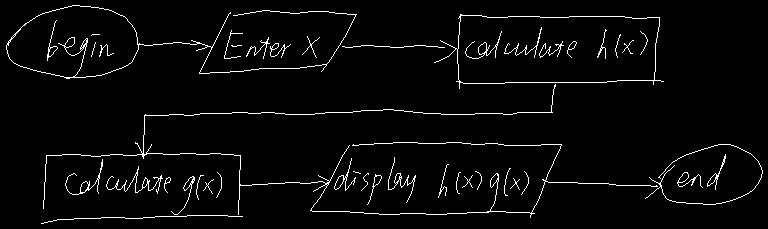arrow: (135, 84, 555, 158), (342, 40, 456, 62), (542, 177, 660, 198), (239, 175, 329, 191), (138, 40, 212, 50)
data: (310, 142, 561, 217), (199, 10, 356, 73)
process: (456, 14, 663, 88), (41, 153, 242, 223)
terminator: (6, 5, 138, 77), (658, 144, 762, 204)
text: (334, 157, 528, 212), (65, 159, 221, 214), (465, 27, 647, 58), (47, 20, 113, 78), (224, 30, 319, 58), (677, 154, 725, 189)
